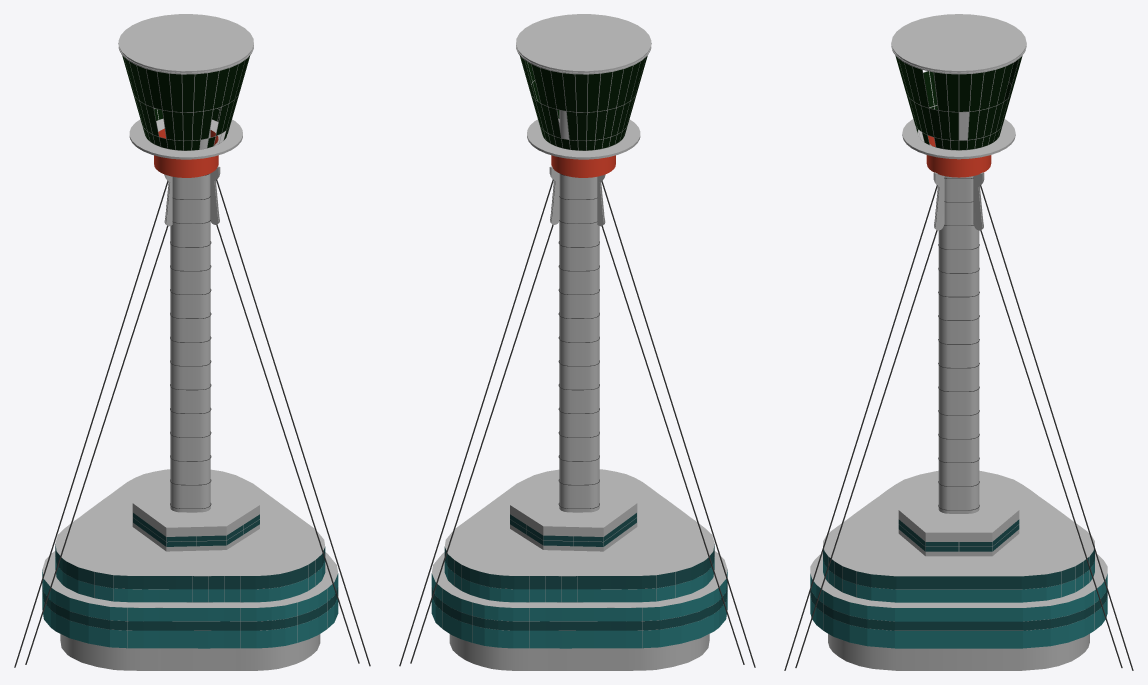
Rendered from lhratc.glb.
3 renders of one model, left to right at view 1: azimuth 30°, elevation 25°; view 2: azimuth 150°, elevation 25°; view 3: azimuth 270°, elevation 25°, orthographic.
Visible parts, largest first — view 1: Plane.001, Cylinder.002, Cube.004; view 2: Plane.001, Cylinder.002, Cube.004; view 3: Plane.001, Cylinder.002, Cube.004.
Boxes of the visible parts, x1,y1,x2,y2 form: Plane.001: [42, 128, 338, 670]; Cylinder.002: [118, 14, 253, 177]; Cube.004: [14, 166, 370, 667]; Plane.001: [431, 110, 727, 670]; Cylinder.002: [516, 14, 651, 177]; Cube.004: [399, 166, 755, 667]; Plane.001: [810, 112, 1107, 670]; Cylinder.002: [891, 14, 1026, 177]; Cube.004: [784, 172, 1133, 670].
Bounding box in the file's own units: 43.86 × 87.18 × 47.38.
